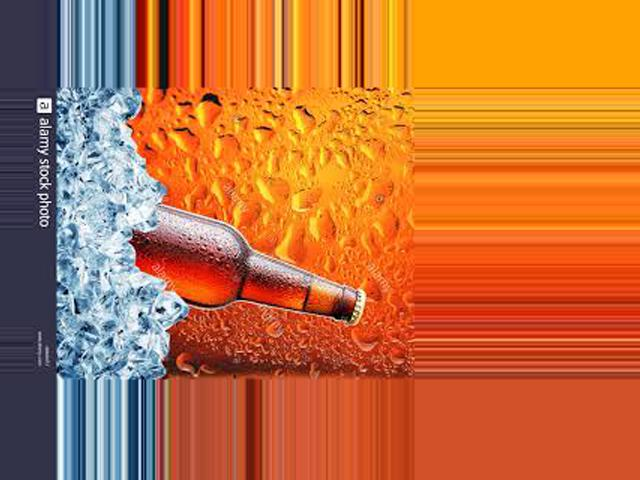beer: (126, 206, 365, 332)
